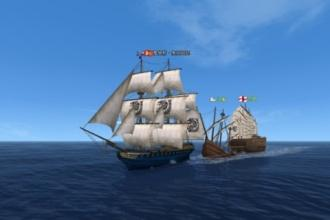fanchuan: (83, 53, 202, 167), (208, 94, 271, 159)
